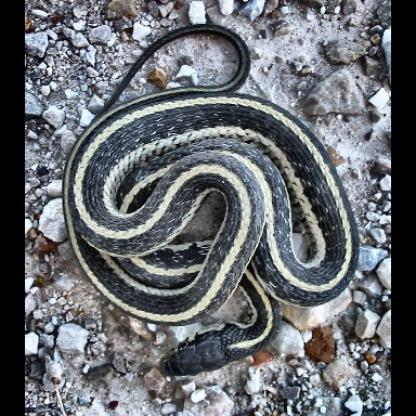Snake: (59, 19, 364, 382)
